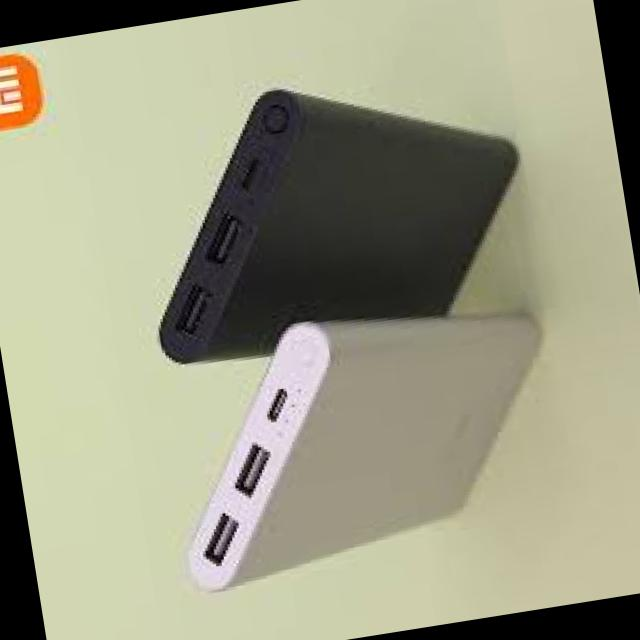power_bank: (109, 43, 552, 369), (152, 282, 578, 590)
